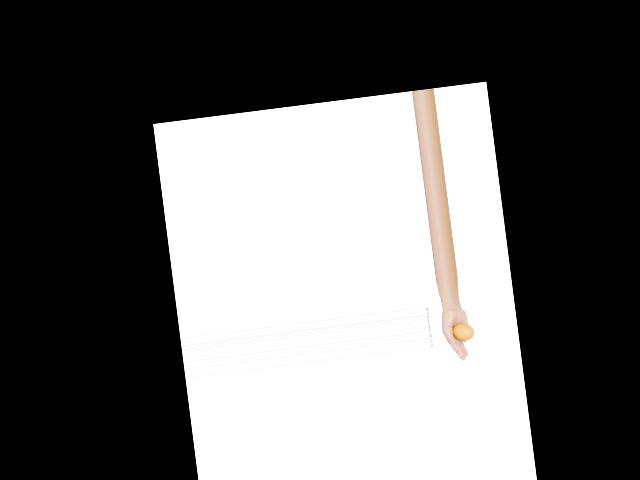egg: (451, 321, 474, 342)
